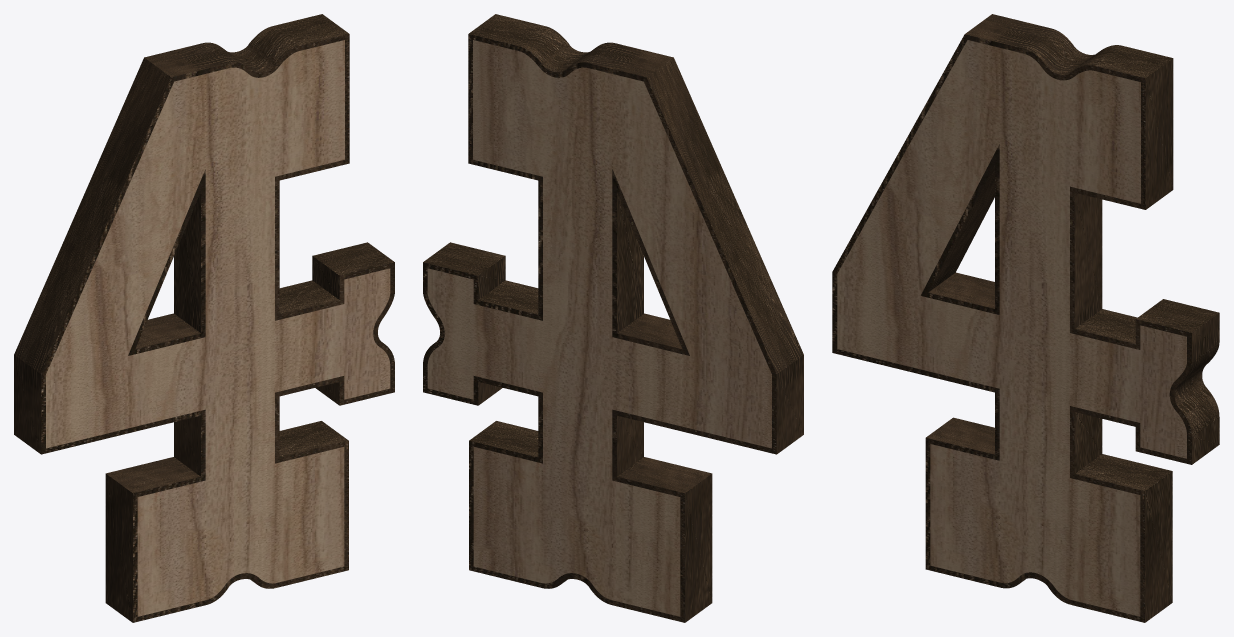
The picture shows the model from 3 angles, left to right: view 1: azimuth 30°, elevation 25°; view 2: azimuth 150°, elevation 25°; view 3: azimuth 330°, elevation 25°; orthographic projection.
Visible parts, largest first — view 1: 4, 4_outline; view 2: 4, 4_outline; view 3: 4, 4_outline.
Part boxes in pixels (x1,y1,x2,y2): 4: (46,40,390,616); 4_outline: (14,14,394,622); 4: (427,40,771,616); 4_outline: (423,14,803,622); 4: (837,40,1186,616); 4_outline: (832,14,1219,622).
Size of the model in its own units: 75.12 by 109 by 10.
Materials: 2 (2 with a texture image).
